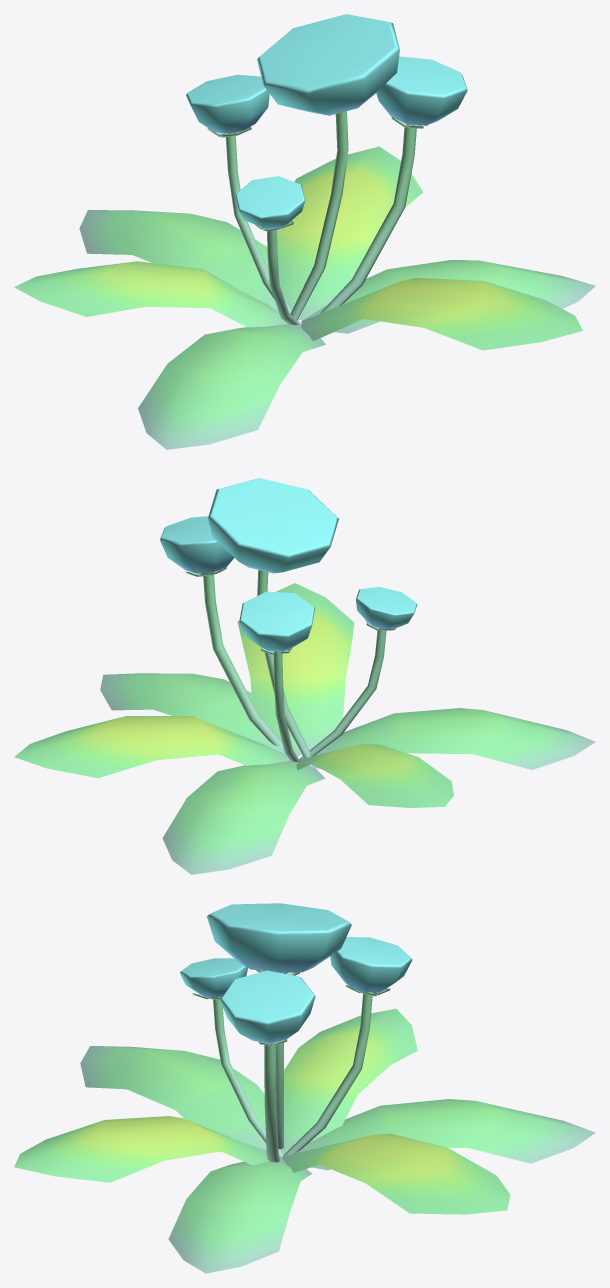
The model's file is Flower.001_Base_Material_0.fbx.
3 renders of one model, top to bottom at view 1: azimuth 30°, elevation 25°; view 2: azimuth 150°, elevation 25°; view 3: azimuth 270°, elevation 25°, orthographic. The views are drawn at different scales.
Parts seen in each view (by area): view 1: Flower.001_Base_Material_0_export; view 2: Flower.001_Base_Material_0_export; view 3: Flower.001_Base_Material_0_export.
Boxes of the visible parts, x1,y1,x2,y2 form: Flower.001_Base_Material_0_export: (14,14,595,449); Flower.001_Base_Material_0_export: (14,478,595,874); Flower.001_Base_Material_0_export: (14,903,595,1273).
Bounding box in the file's own units: 3.46 × 1.94 × 3.74.
